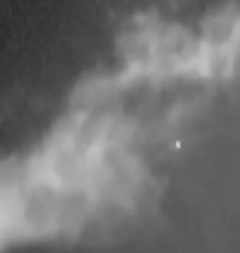Target: (176, 140, 180, 147)
